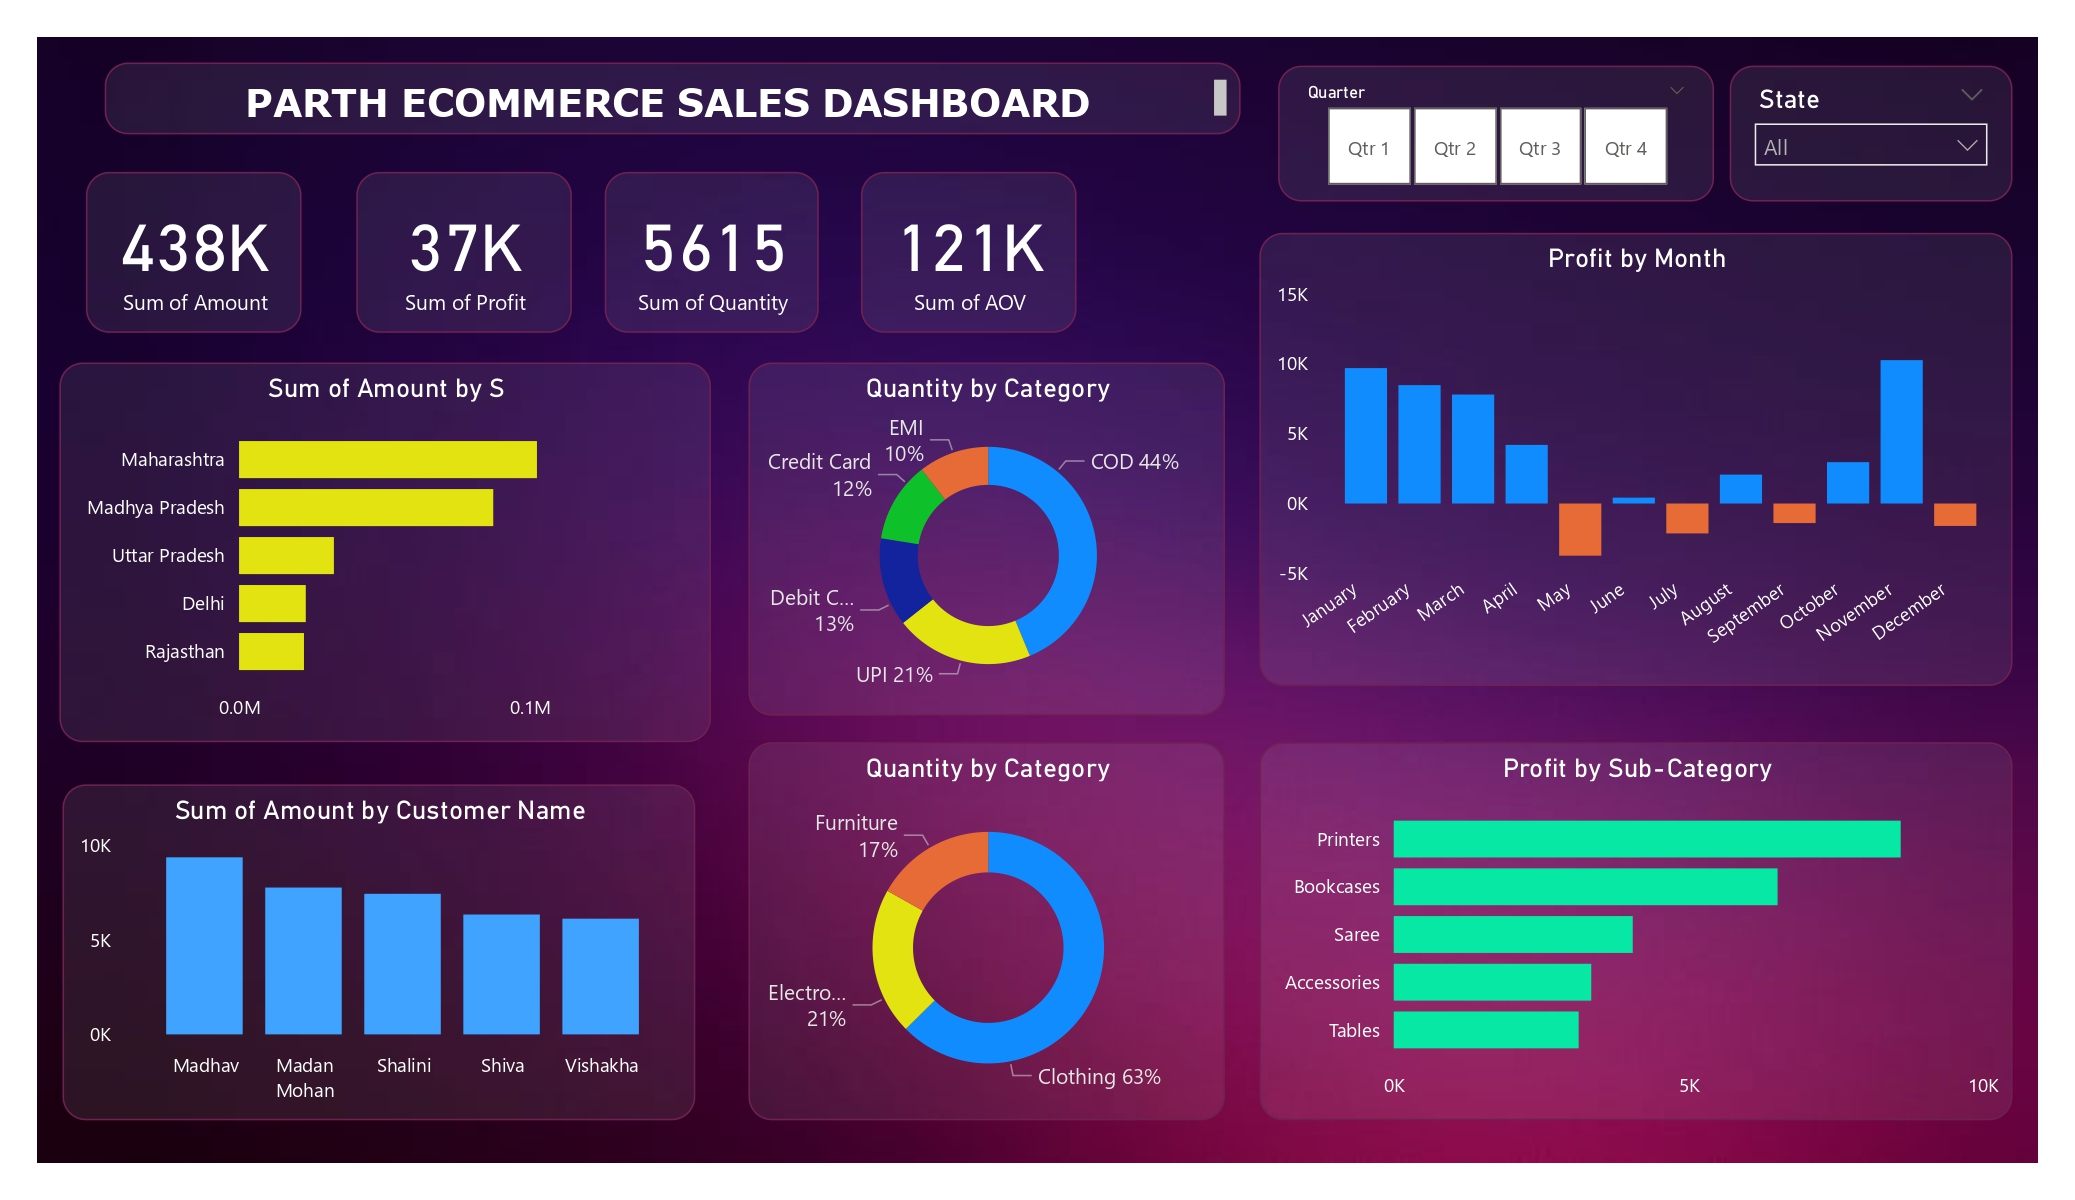

This screenshot's page, from the dashboard's own definition file:
{"tool":"powerbi","page":{"name":"Page 1","canvas":[1280,720],"ordinal":0},"visuals":[{"type":"columnChart","title":"Profit by Month","fields":{"Category":["Orders.Order Date.Variation.Date Hierarchy.Month"],"Y":["Details.Profit"]},"box":[782.4,124.7,481.9,290.6],"z":0},{"type":"barChart","title":"Profit by Sub-Category","fields":{"Category":["Details.Sub-Category"],"Y":["Details.Profit"]},"box":[782.4,450.7,481.9,242.4],"z":1000},{"type":"donutChart","title":"Quantity by Category","fields":{"Y":["Details.Quantity"],"Category":["Details.Category"]},"box":[455,450.7,304.7,242.4],"z":2000},{"type":"donutChart","title":"Quantity by Category","fields":{"Y":["Details.Quantity"],"Category":["Details.PaymentMode"]},"box":[455,208.3,304.7,225.4],"z":3000},{"type":"textbox","box":[42.5,15.6,727.1,46.8],"z":4000},{"type":"card","fields":{"Values":["Details.Amount"]},"box":[31.2,86.5,137.5,102],"z":5000},{"type":"card","fields":{"Values":["Details.AOV"]},"box":[527.2,86.5,137.5,102],"z":6000},{"type":"card","fields":{"Values":["Details.Profit"]},"box":[204.1,86.5,137.5,102],"z":7000},{"type":"card","fields":{"Values":["Details.Quantity"]},"box":[362.8,86.5,137.5,102],"z":8000},{"type":"barChart","title":"Sum of Amount by S","fields":{"Y":["Details.Amount"],"Category":["Orders.State"]},"box":[14.2,208.3,416.7,242.4],"z":9000},{"type":"columnChart","title":"Sum of Amount by  Customer Name","fields":{"Category":["Orders.CustomerName"],"Y":["Details.Amount"]},"box":[15.6,477.6,405.4,215.4],"z":10000},{"type":"slicer","fields":{"Values":["Orders.Order Date.Variation.Date Hierarchy.Quarter"]},"box":[793.7,18.4,279.2,86.5],"z":11000},{"type":"slicer","fields":{"Values":["Orders.State"]},"box":[1082.8,18.4,181.4,86.5],"z":12000}]}

Visuals, with their boxes on the page's 1280x720 design canvas (x1, y1, x2, y2). These are canvas units, not pixel positions in the 2075x1200 screenshot, which may show the page scaled, cropped or inside an application window:
"Profit by Month" columnChart: locate(782, 125, 1264, 415)
"Profit by Sub-Category" barChart: locate(782, 451, 1264, 693)
"Quantity by Category" donutChart: locate(455, 451, 760, 693)
"Quantity by Category" donutChart: locate(455, 208, 760, 434)
textbox: locate(42, 16, 770, 62)
card - Details.Amount: locate(31, 86, 169, 188)
card - Details.AOV: locate(527, 86, 665, 188)
card - Details.Profit: locate(204, 86, 342, 188)
card - Details.Quantity: locate(363, 86, 500, 188)
"Sum of Amount by S" barChart: locate(14, 208, 431, 451)
"Sum of Amount by  Customer Name" columnChart: locate(16, 478, 421, 693)
slicer - Orders.Order Date.Variation.Date Hierarchy.Quarter: locate(794, 18, 1073, 105)
slicer - Orders.State: locate(1083, 18, 1264, 105)
